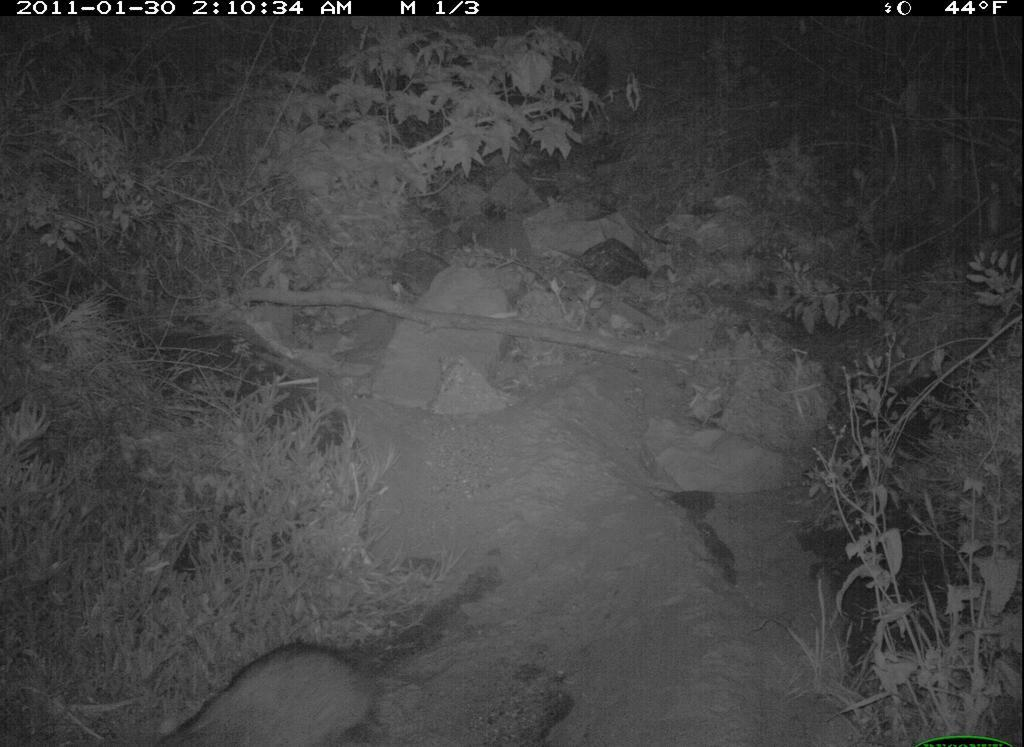raccoon: (163, 628, 404, 747)
